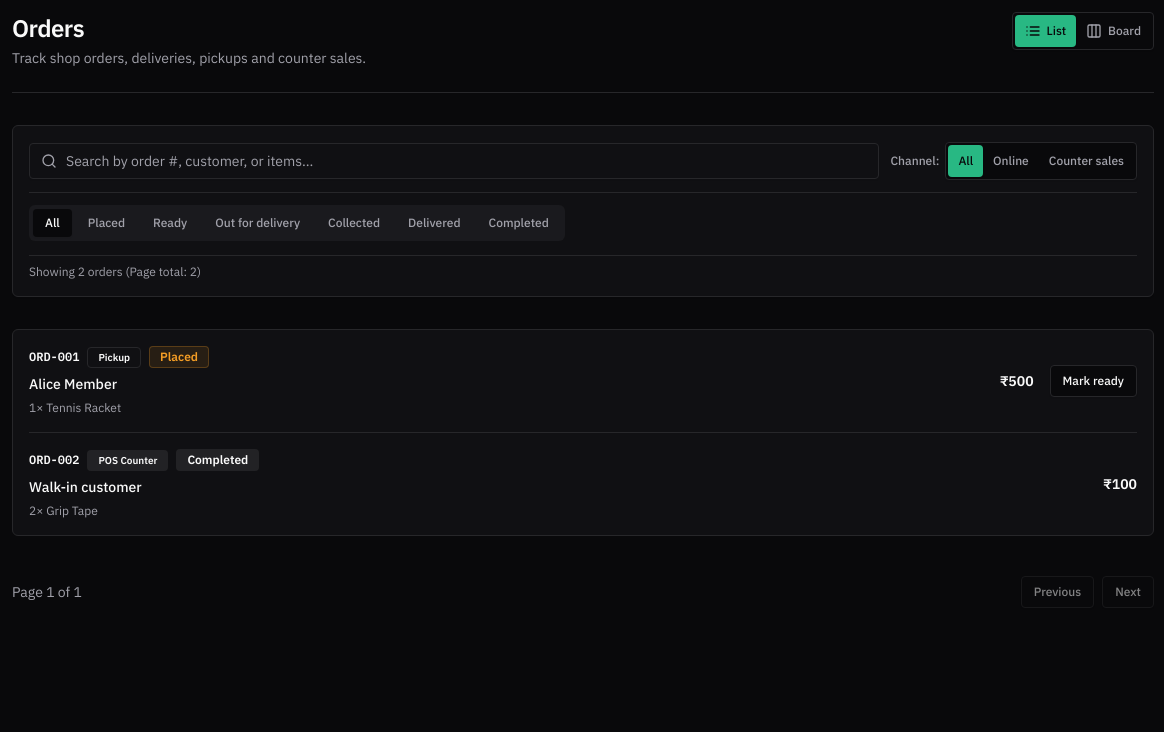
Scenario: Orders Page & Board Layout (Issue #72) › filters orders by channel (Online vs POS)
This screenshot has width=1164, height=732.
Expected: the text "ORD-001" is shown, [29,349,79,365]
Switch to Counter sales
What coordinates should you click on to do the following:
click the button "Counter sales"
I would click on:
 (1086, 161)
Its box is [1039,145,1134,177].
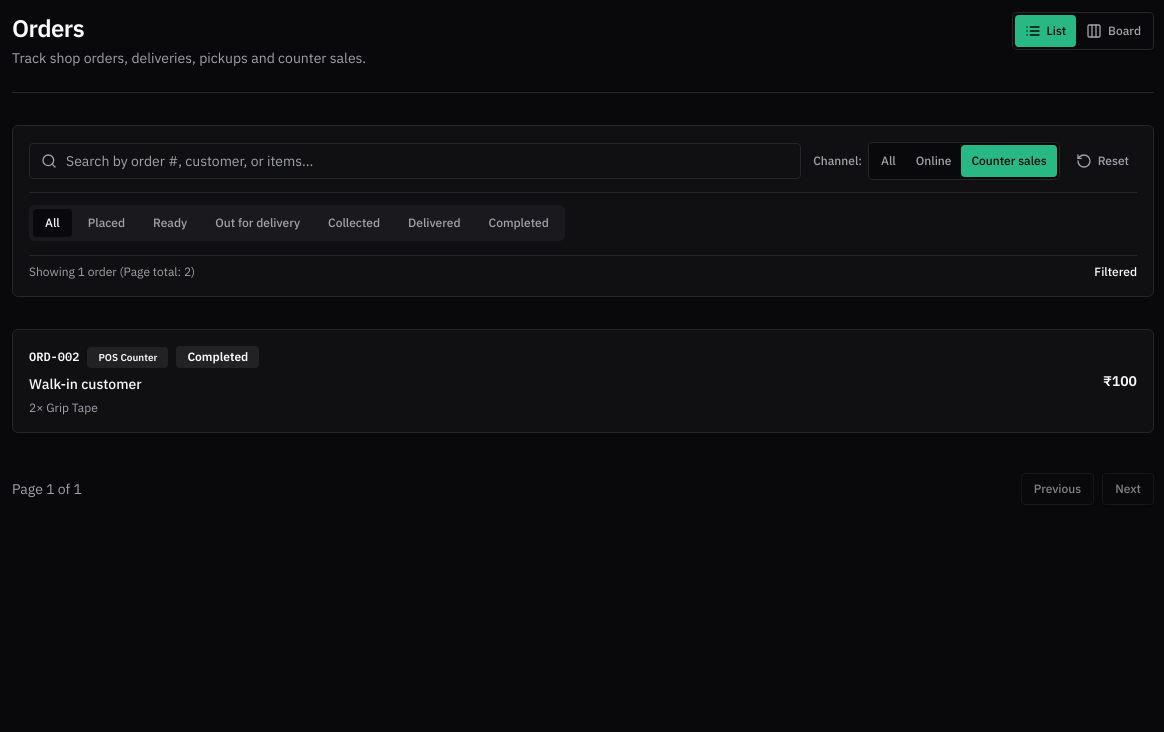
Expected: the text "ORD-002" is shown, [29,349,79,365]
Now the text "ORD-001" is gone
Switch to Online
What coordinates should you click on to do the following:
click the button "Online"
I would click on:
 (934, 161)
Its box is [906,145,962,177].
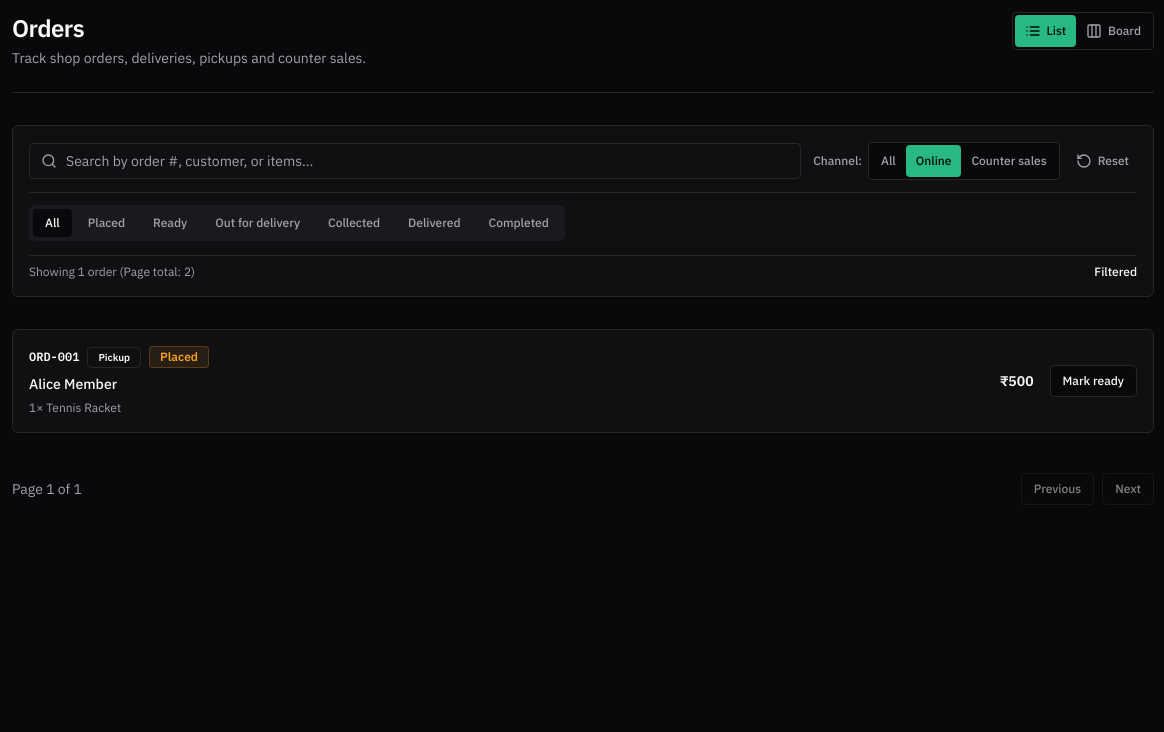
Now the text "ORD-001" is shown, box [29,349,79,365]
Now the text "ORD-002" is gone
